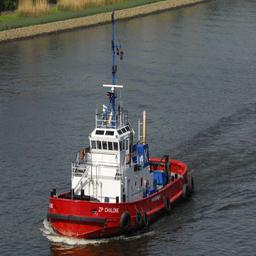Ship: (36, 86, 202, 245)
